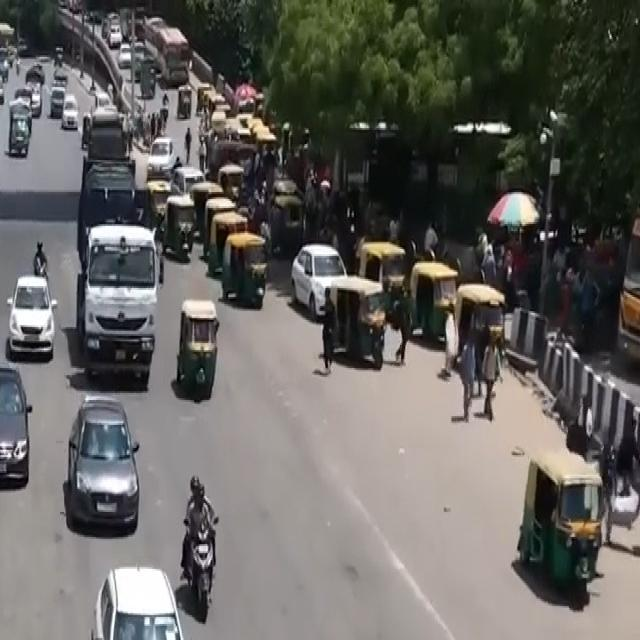car: (68, 210, 172, 380), (53, 386, 154, 551), (71, 551, 218, 640), (0, 262, 66, 374), (0, 348, 42, 502), (288, 237, 356, 314)
motorbike: (168, 464, 230, 629)
rickshaw: (506, 441, 615, 608), (166, 292, 229, 412)
